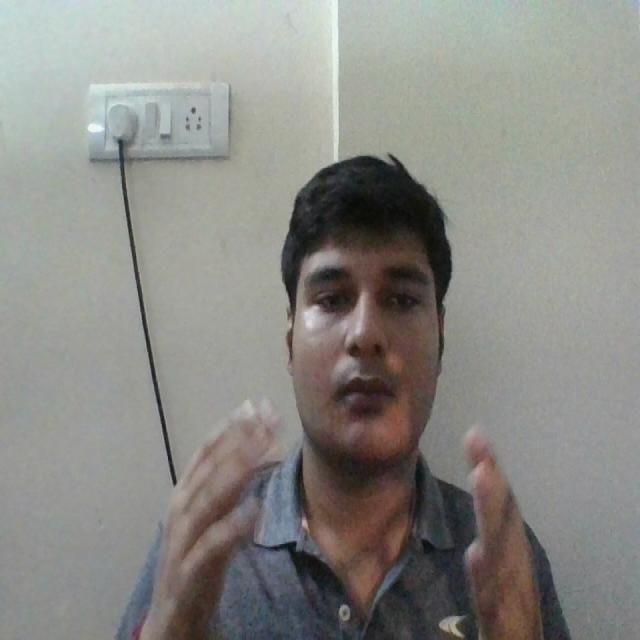Thanks: (122, 380, 576, 640)
